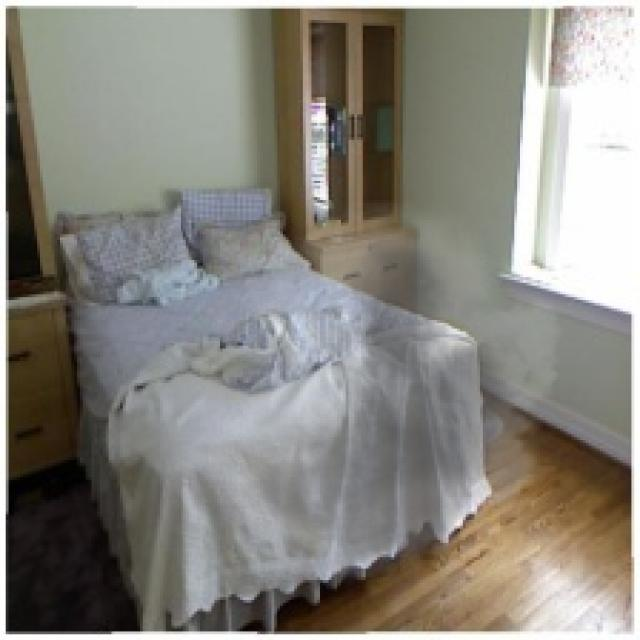smoke: (163, 200, 580, 600)
